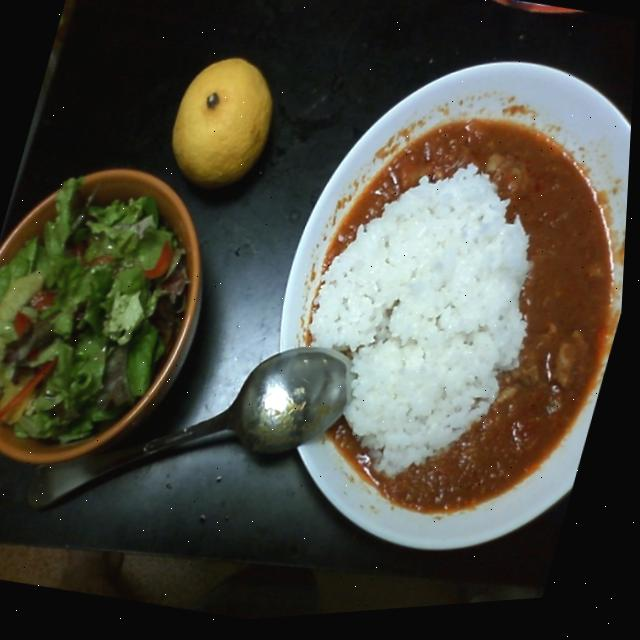牛肉菜式: (244, 58, 636, 565)
蔬菜料理: (0, 153, 230, 471)
